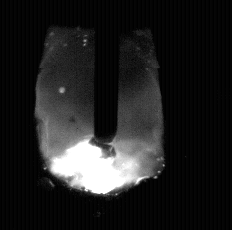arame: (94, 0, 119, 158)
poca: (38, 0, 163, 230)
